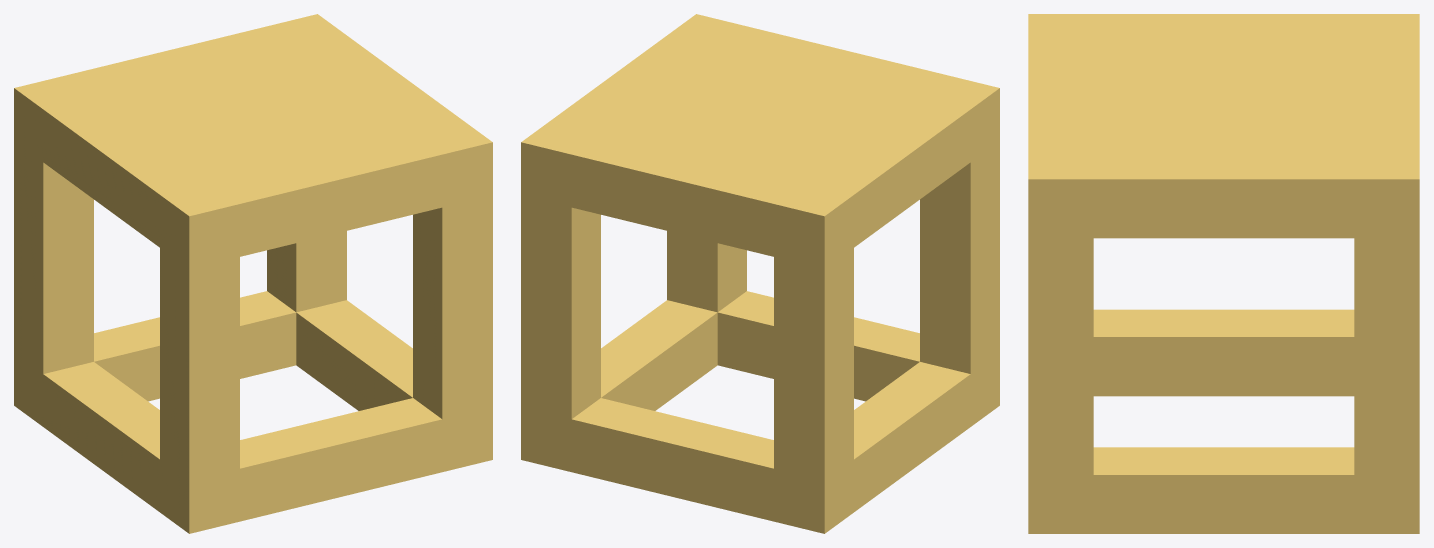
File: spires_hollow.gltf
The picture shows the model from 3 angles, left to right: view 1: azimuth 30°, elevation 25°; view 2: azimuth 150°, elevation 25°; view 3: azimuth 270°, elevation 25°; orthographic projection. The views are drawn at different scales.
Parts seen in each view (by area): view 1: ground cube; view 2: ground cube; view 3: ground cube.
Part boxes in pixels (<box>): ground cube: <box>14,14,492,533</box>; ground cube: <box>521,14,999,533</box>; ground cube: <box>1028,14,1419,533</box>.
Size of the model in its own units: 3 by 3 by 3.
